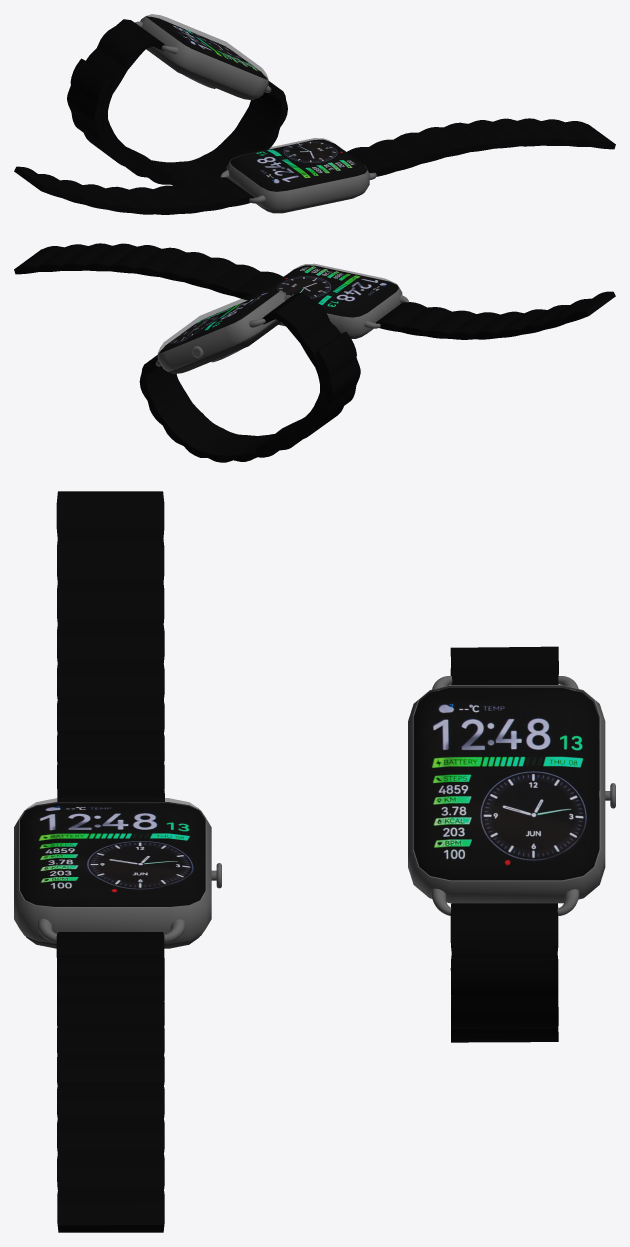
The model's file is free_-_smart_watches.glb.
The picture shows the model from 3 angles, top to bottom: view 1: azimuth 30°, elevation 25°; view 2: azimuth 150°, elevation 25°; view 3: azimuth 270°, elevation 25°; orthographic projection. The views are drawn at different scales.
Parts seen in each view (by area): view 1: Cube.006, Cube.011, Cube.008, Cube.007, Cube.009, Cube.012, Cube.010, Cube.013; view 2: Cube.011, Cube.008, Cube.007, Cube.009, Cube.006, Cube.012, Cube.010, Cube.013; view 3: Cube.009, Cube.013, Cube.007, Cube.008, Cube.006, Cube.012, Cube.011, Cube.010, Torus.004.
Part boxes in pixels (<box>): Cube.006: <box>226,138,369,213</box>; Cube.011: <box>67,58,287,186</box>; Cube.008: <box>346,118,615,176</box>; Cube.007: <box>14,166,253,214</box>; Cube.009: <box>140,14,268,100</box>; Cube.012: <box>230,139,366,191</box>; Cube.010: <box>86,19,172,178</box>; Cube.013: <box>147,16,266,79</box>; Cube.011: <box>139,331,360,462</box>; Cube.008: <box>14,243,283,300</box>; Cube.007: <box>376,291,615,339</box>; Cube.009: <box>157,288,285,374</box>; Cube.006: <box>263,264,402,338</box>; Cube.012: <box>263,265,398,317</box>; Cube.010: <box>255,292,340,451</box>; Cube.013: <box>159,290,279,353</box>; Cube.009: <box>408,685,605,903</box>; Cube.013: <box>413,688,598,880</box>; Cube.007: <box>56,491,164,801</box>; Cube.008: <box>56,932,164,1232</box>; Cube.006: <box>14,798,211,948</box>; Cube.012: <box>20,803,205,906</box>; Cube.011: <box>450,684,558,1042</box>; Cube.010: <box>450,646,558,916</box>; Torus.004: <box>431,676,579,915</box>.
Size of the model in its own units: 10.6 by 2.89 by 4.94.
Materials: 8 (1 with a texture image).
